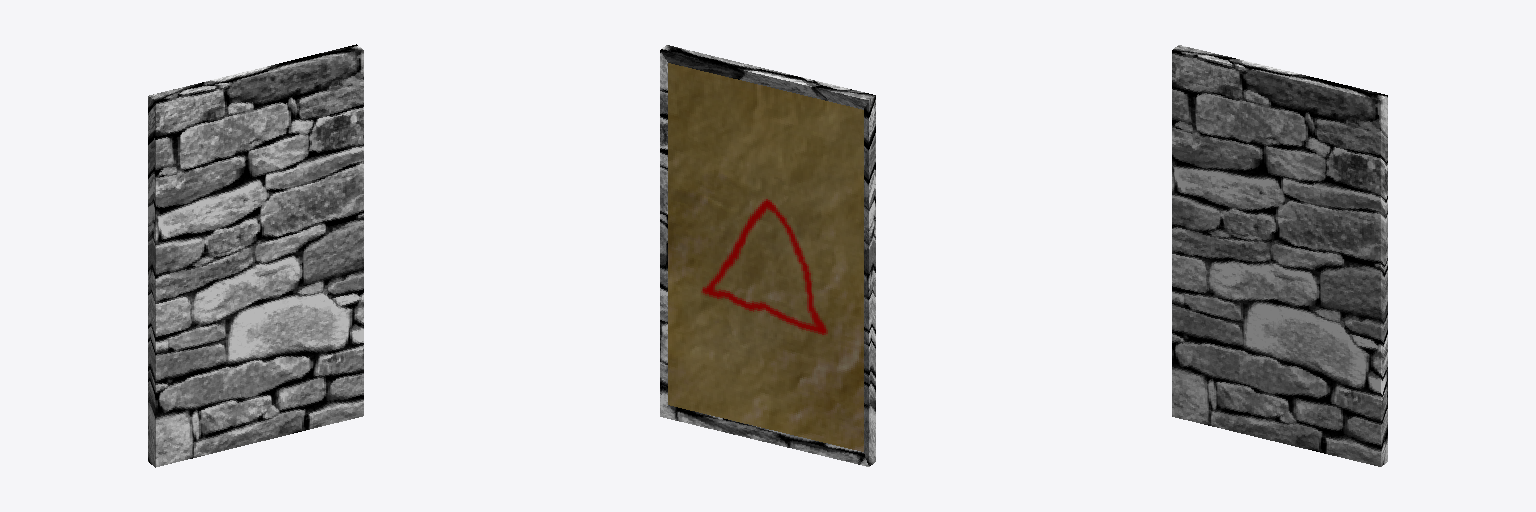
3 renders of one model, left to right at view 1: azimuth 30°, elevation 25°; view 2: azimuth 150°, elevation 25°; view 3: azimuth 330°, elevation 25°, orthographic.
Parts seen in each view (by area): view 1: cube1; view 2: cube1; view 3: cube1.
Boxes of the visible parts, <box> form: cube1: <box>148,44,363,467</box>; cube1: <box>660,45,875,466</box>; cube1: <box>1172,45,1387,466</box>.
Size of the model in its own units: 0.2002 by 0.3357 by 0.0132.
1 materials, 1 textured.